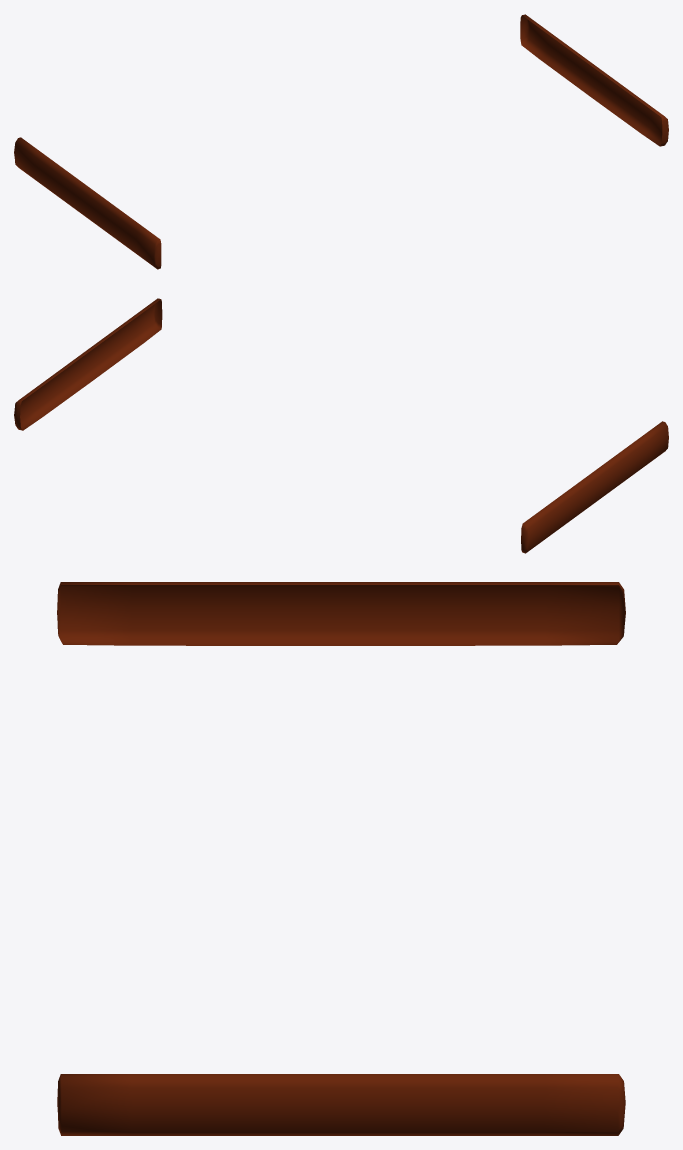
3 renders of one model, top to bottom at view 1: azimuth 30°, elevation 25°; view 2: azimuth 150°, elevation 25°; view 3: azimuth 270°, elevation 25°, orthographic. The views are drawn at different scales.
Bounding box in the file's own units: 1 × 0.0552 × 0.4779.
